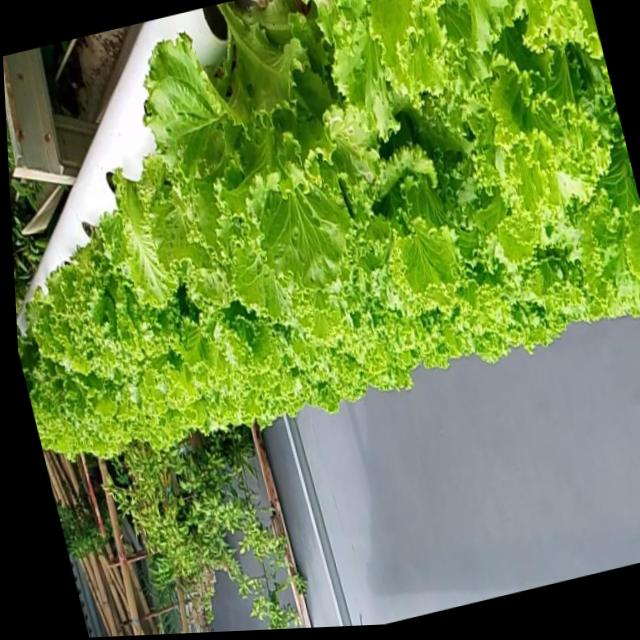Mature: (17, 0, 640, 464), (139, 24, 350, 320), (18, 205, 173, 423)
